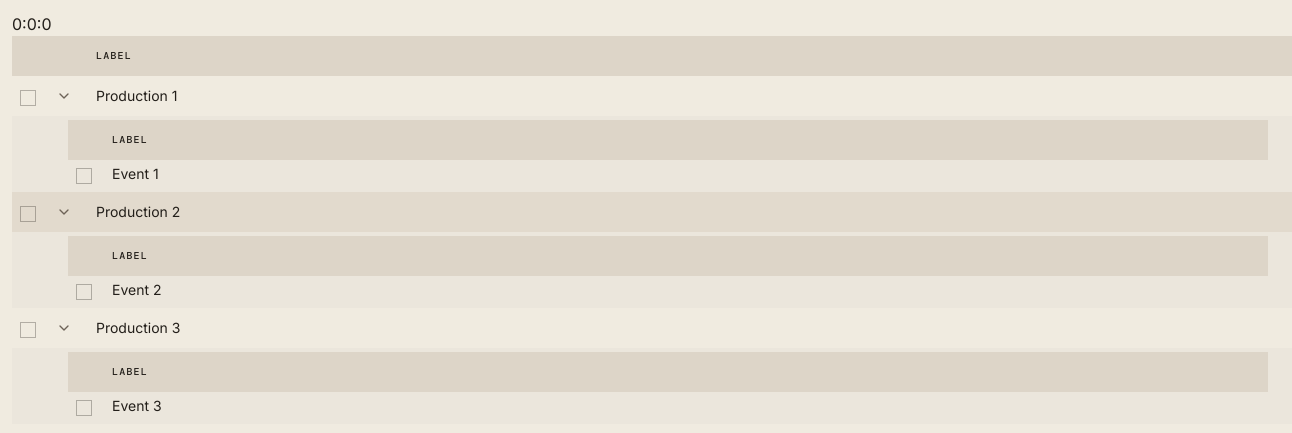
Test: useParentChildSelection › marks the parent selector as mixed when only a child row is selected
This screenshot has width=1292, height=433.
Click the checkbox named "Select row" next to "Event 1": coordinates (84, 176) [76,168,92,184]
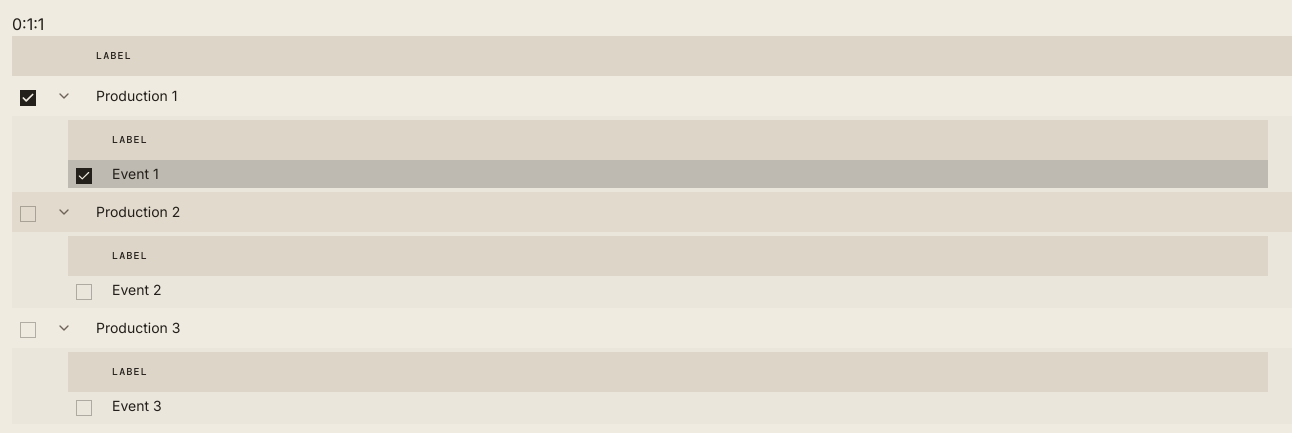
Expected: the text with test id "counts" reads "0:1:1", [12,14,44,34]
